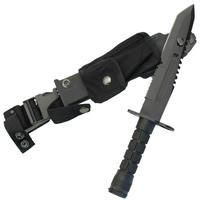knife: (107, 3, 194, 198)
